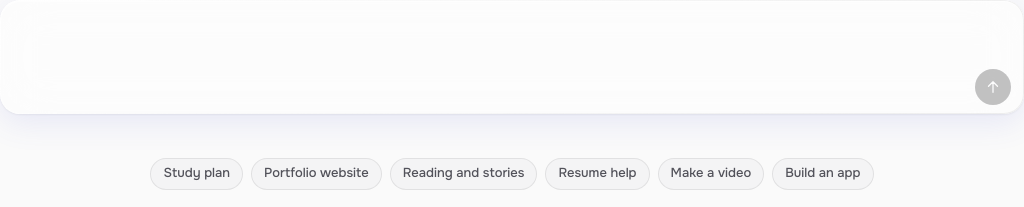
GoalForm › rejects empty input with a message
Step 1. Click the text box named "What do you want to do with AI?" → (516, 41), box x1=21 y1=13 x2=1011 y2=69
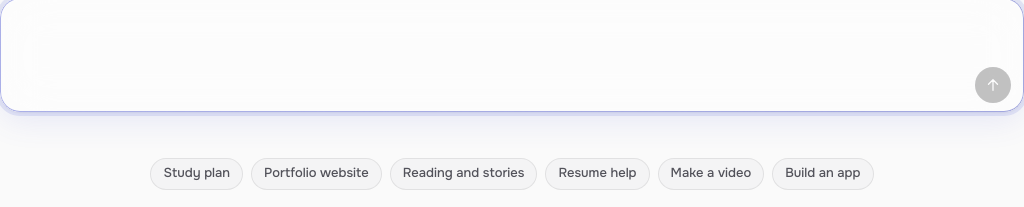
Step 2. Press Enter
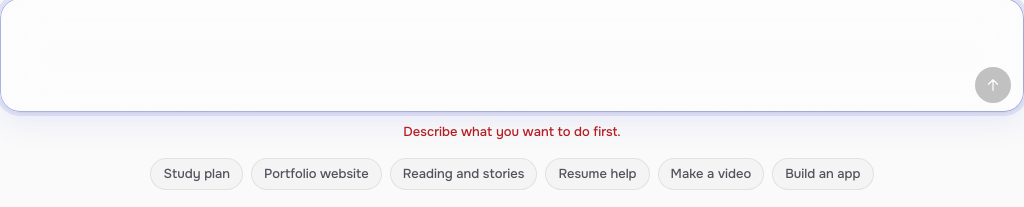
Now the message reads "Describe what you want to do first.", box x1=403 y1=123 x2=621 y2=140
